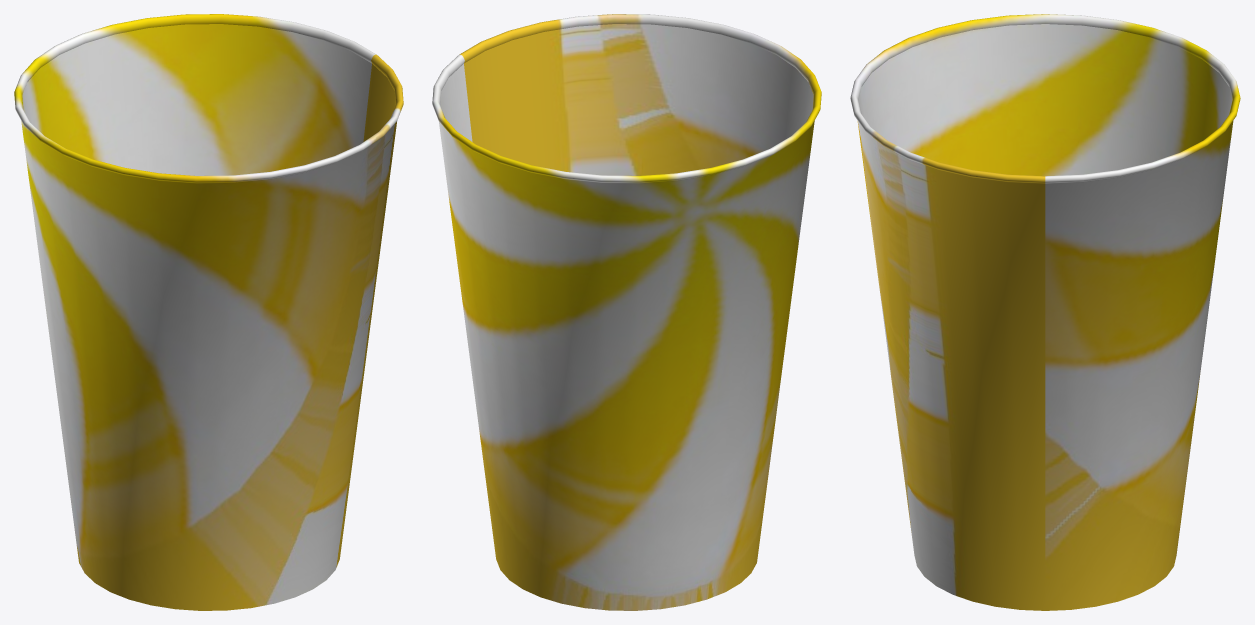
Rendered from CupBody-SourceDerivative.fbx.
3 renders of one model, left to right at view 1: azimuth 30°, elevation 25°; view 2: azimuth 150°, elevation 25°; view 3: azimuth 270°, elevation 25°, orthographic.
Visible parts, largest first — view 1: Cylinder; view 2: Cylinder; view 3: Cylinder.
Part boxes in pixels (box(x1,y1,x2,y2)): Cylinder: box(14, 14, 403, 610); Cylinder: box(432, 14, 821, 610); Cylinder: box(850, 14, 1240, 610).
Size of the model in its own units: 87.63 by 114 by 87.63.
